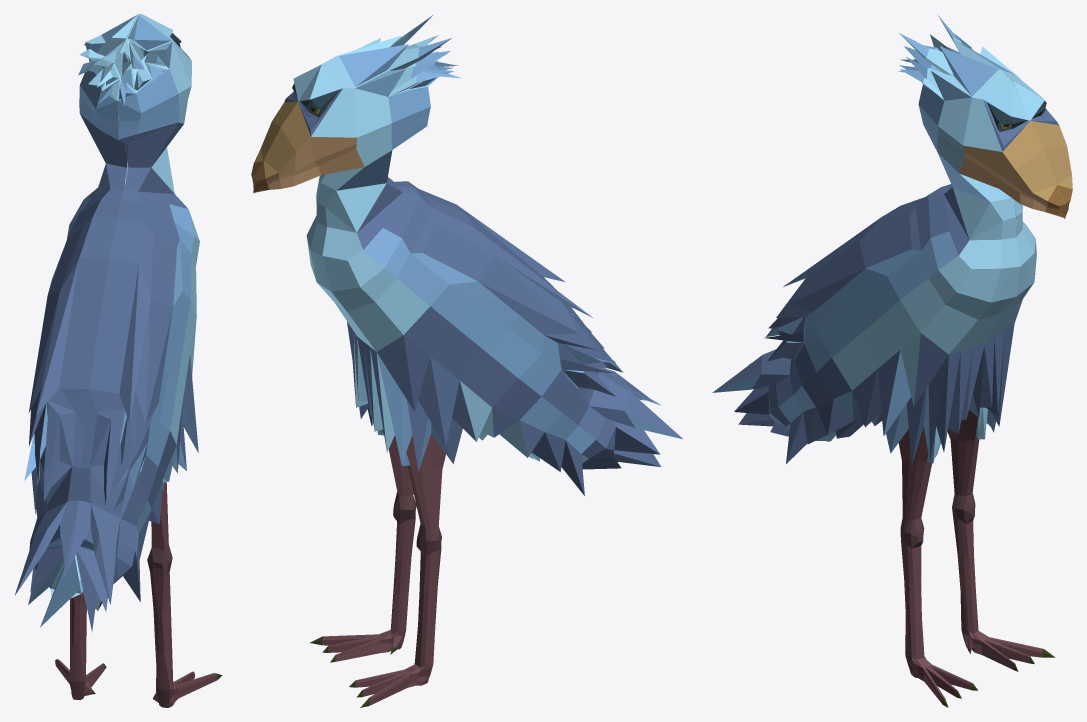
Rendered from shoebill.glb.
The picture shows the model from 3 angles, left to right: view 1: azimuth 30°, elevation 25°; view 2: azimuth 150°, elevation 25°; view 3: azimuth 270°, elevation 25°; orthographic projection. The views are drawn at different scales.
Parts seen in each view (by area): view 1: Cube_Material_0; view 2: Cube_Material_0; view 3: Cube_Material_0.
Part boxes in pixels (x1,y1,x2,y2): Cube_Material_0: (14,14,222,707); Cube_Material_0: (251,15,682,707); Cube_Material_0: (712,14,1072,707).
Size of the model in its own units: 1.44 by 3 by 1.56.
Materials: 1 (1 with a texture image).
